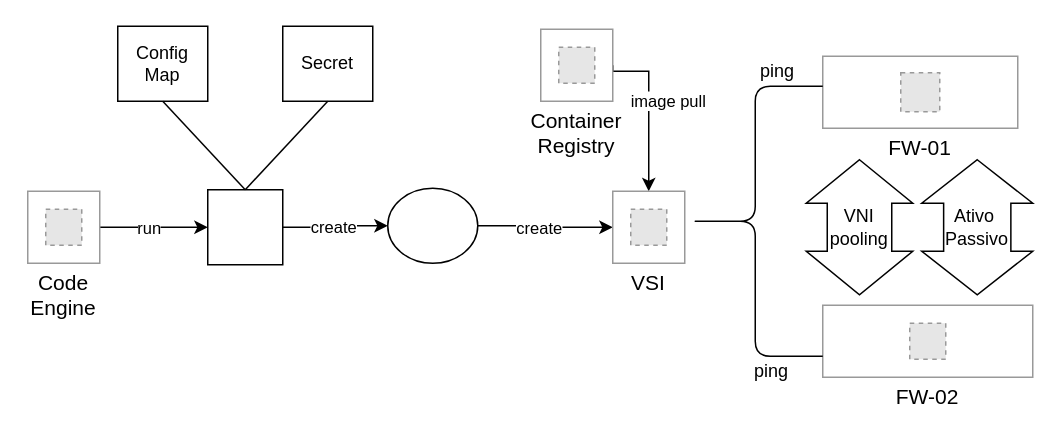
Image size: 1059x437. Some labels were removed from this diagram. Grey dashed boxes stand in for pictures. The shapes that lost their labels are listed below. From the top down, each one's centre as x and y in pixels, then its label:
point (244, 226): Job
point (432, 225): Job Run
